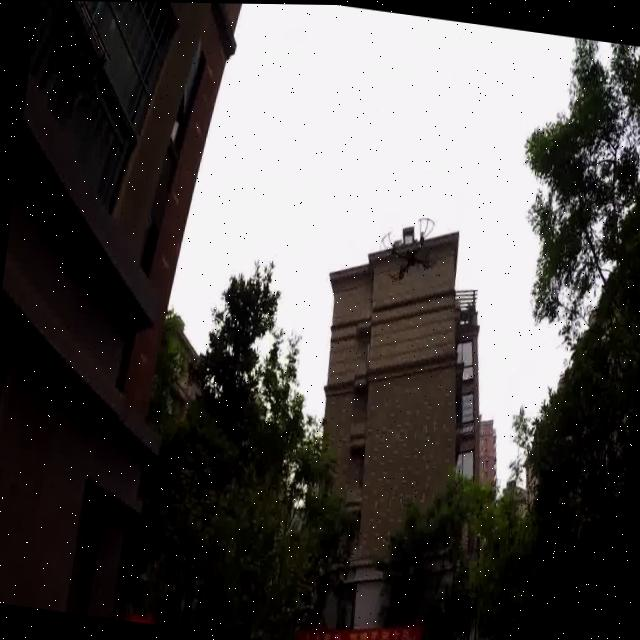drone: (370, 206, 458, 295)
